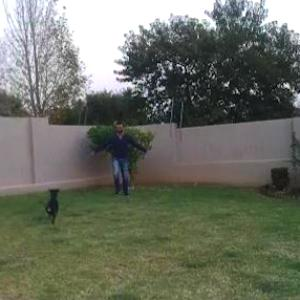land: (79, 111, 148, 205)
